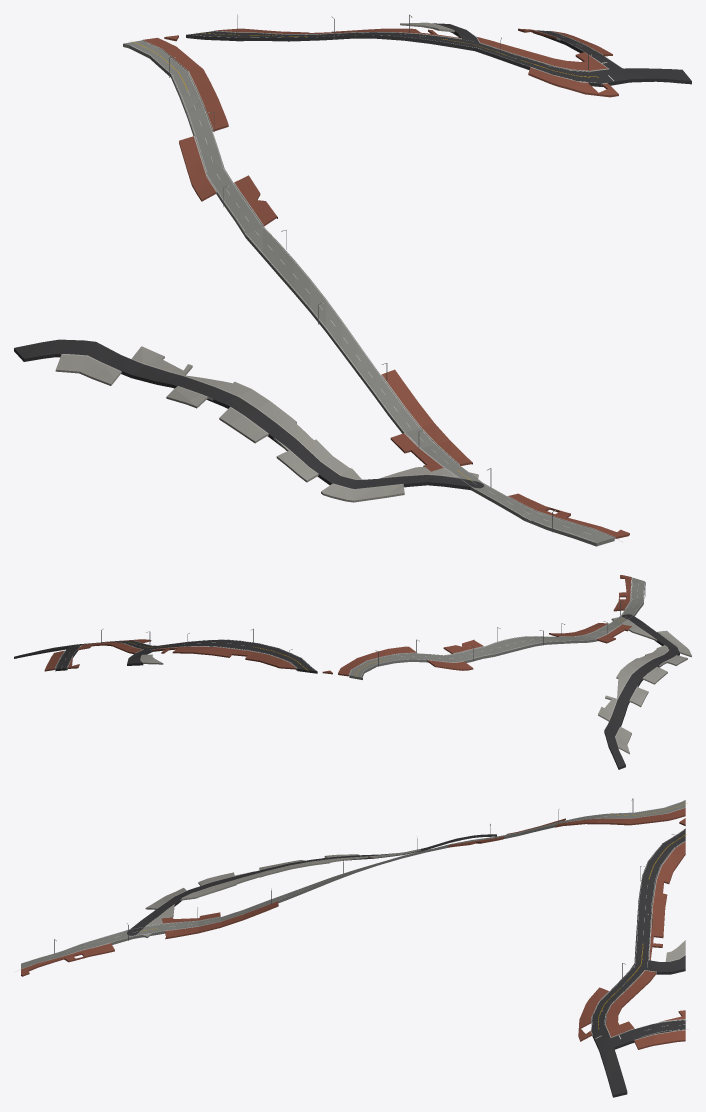
Rendered from 17-109460-59478.ba5acf20.glb.
3 views of the same model, one above another, from view 1: azimuth 30°, elevation 25°; view 2: azimuth 150°, elevation 25°; view 3: azimuth 270°, elevation 25° (orthographic). The views are drawn at different scales.
Bounding box in the file's own units: 293 × 76.04 × 298.
